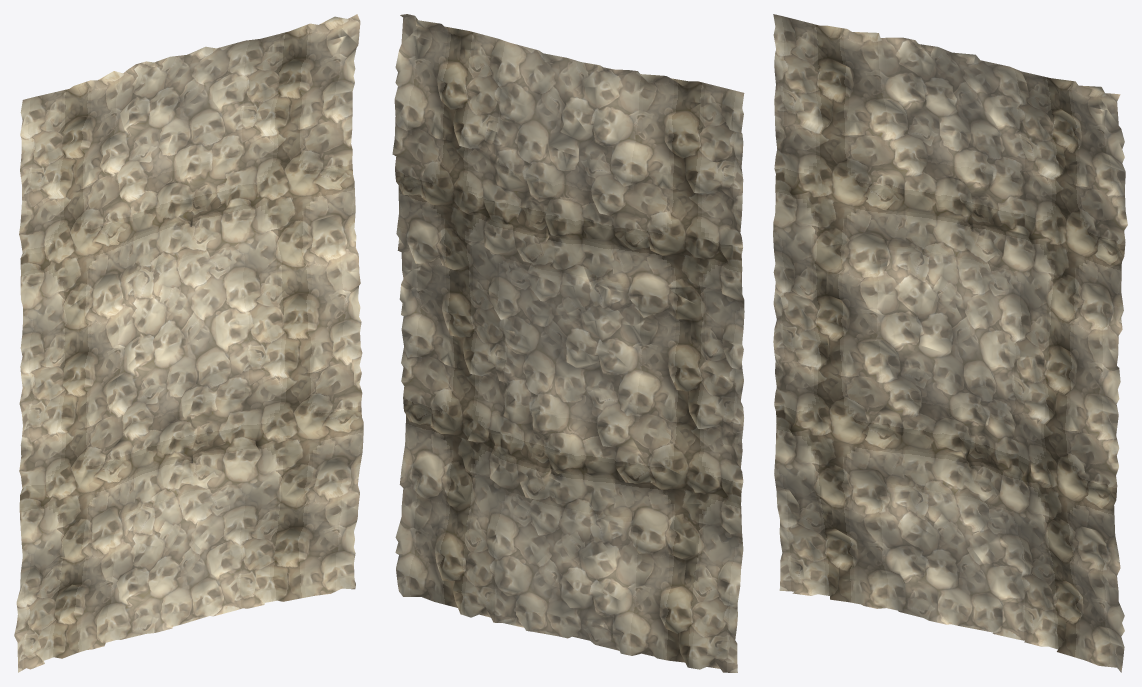
File: SM_Pile_Wall_Arch_01.fbx
3 renders of one model, left to right at view 1: azimuth 30°, elevation 25°; view 2: azimuth 150°, elevation 25°; view 3: azimuth 330°, elevation 25°, orthographic.
Visible parts, largest first — view 1: SM_Pile_Wall_Arch_01; view 2: SM_Pile_Wall_Arch_01; view 3: SM_Pile_Wall_Arch_01.
Boxes of the visible parts, <box> form: SM_Pile_Wall_Arch_01: <box>14,14,363,672</box>; SM_Pile_Wall_Arch_01: <box>392,14,744,672</box>; SM_Pile_Wall_Arch_01: <box>773,14,1127,672</box>.
Size of the model in its own units: 230 by 23.82 by 372.
